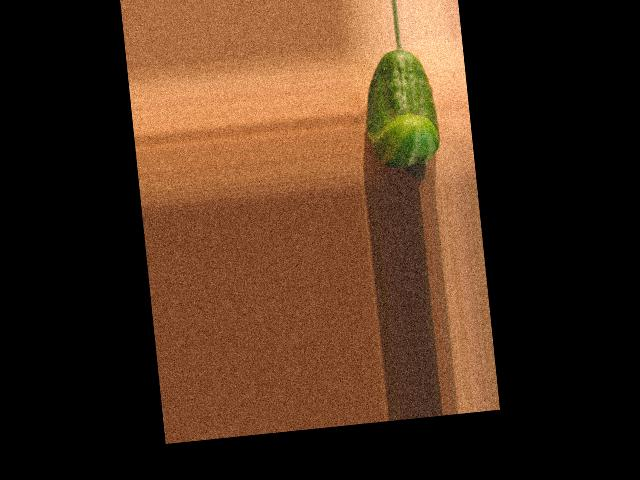cucumber: (359, 46, 443, 169)
